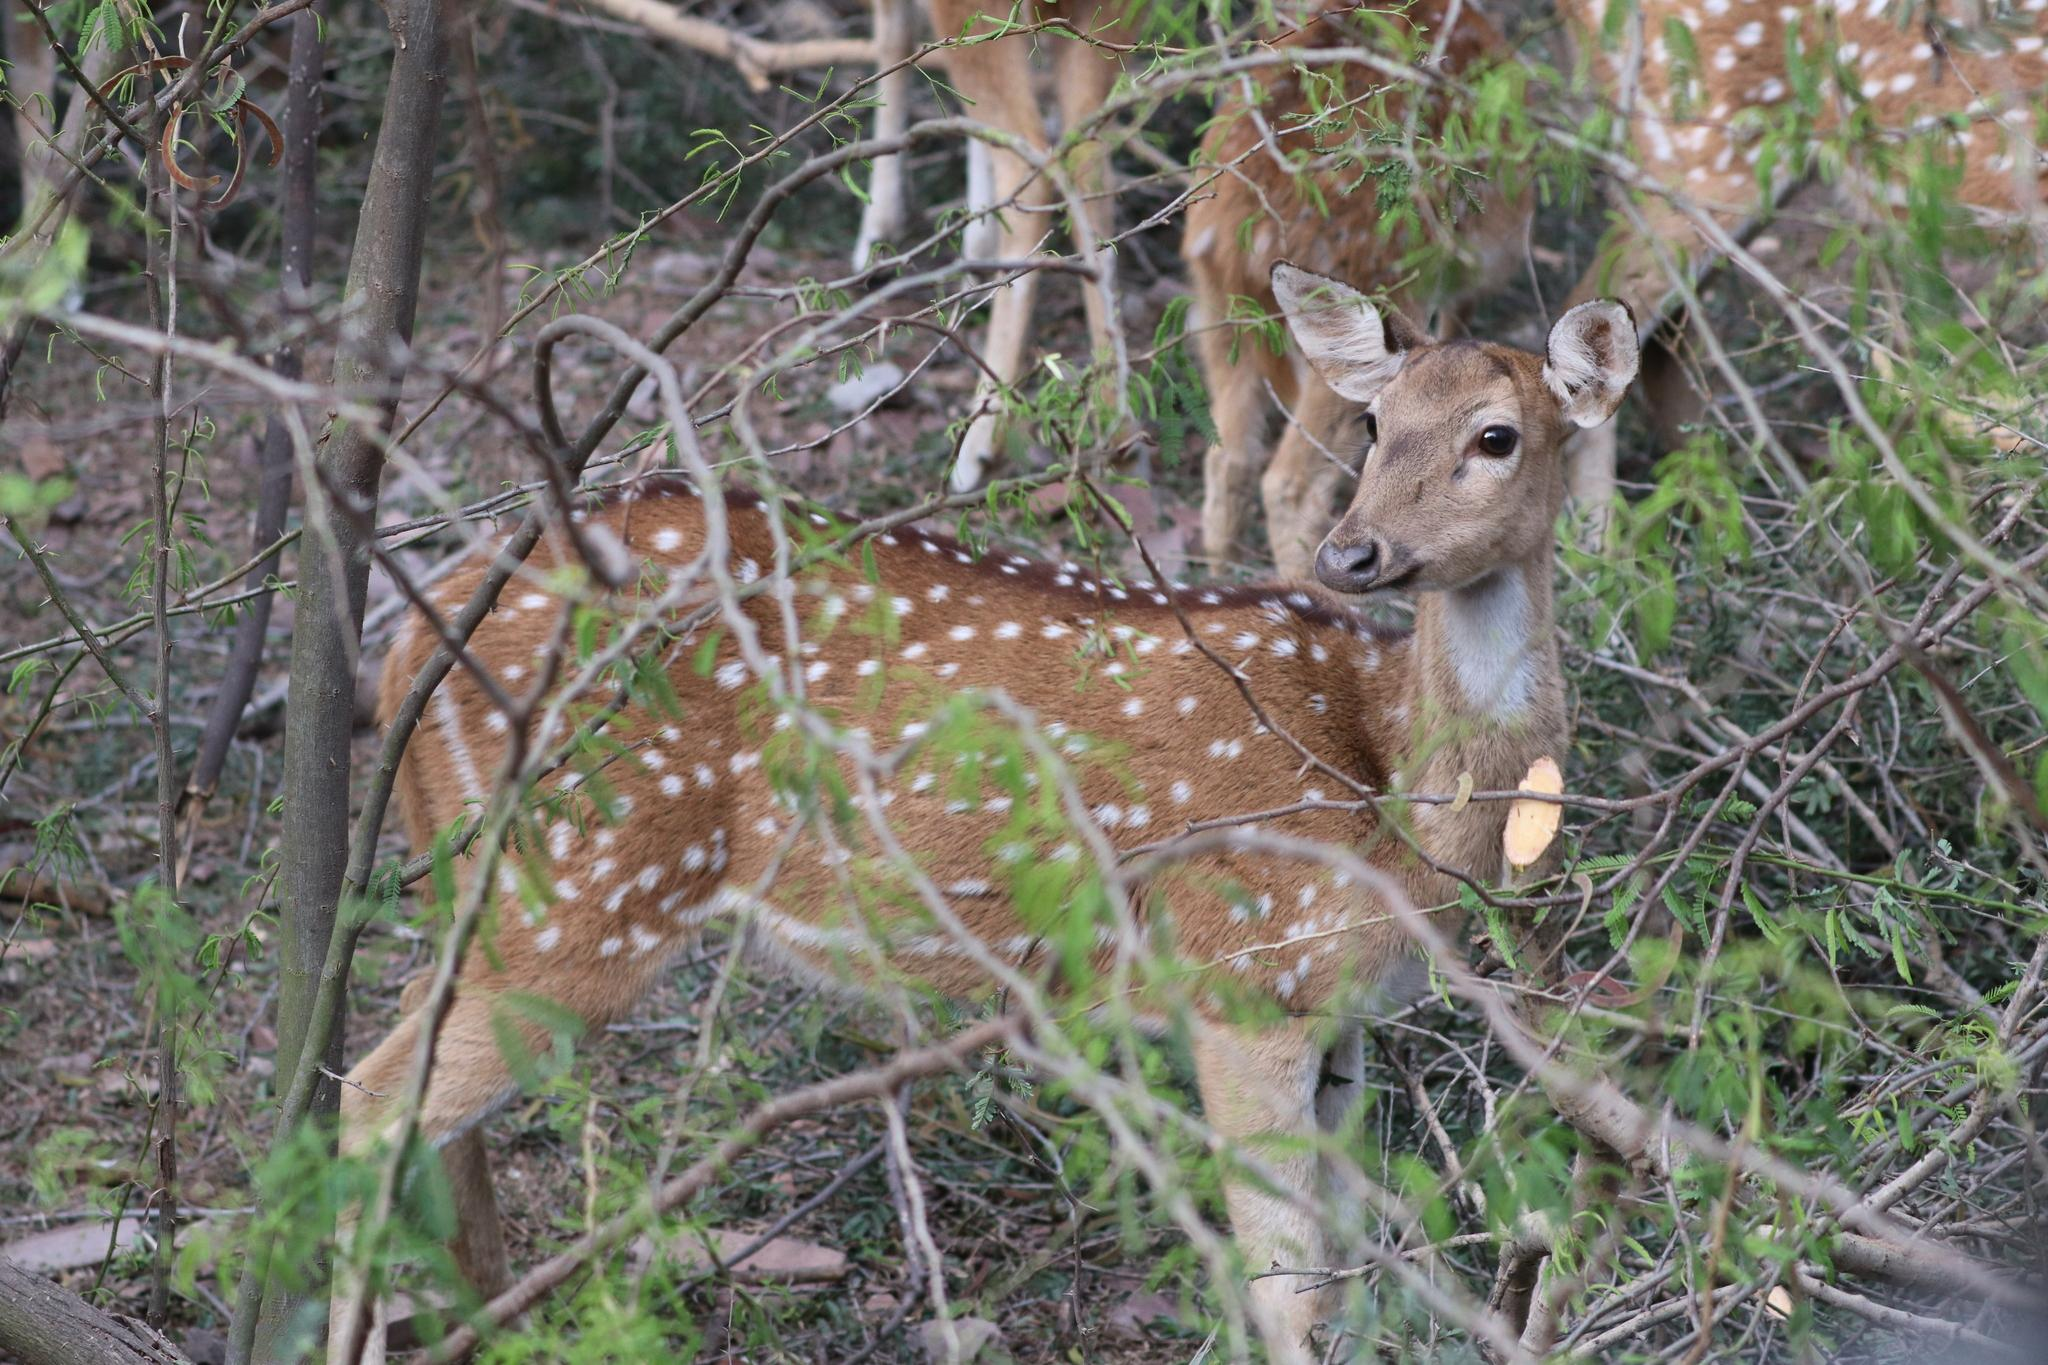Deer: (343, 264, 1635, 1274)
